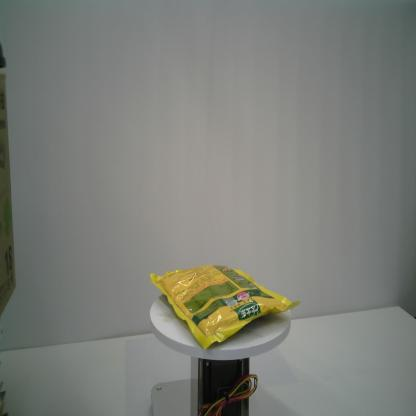Seasoner: (150, 264, 301, 351)
